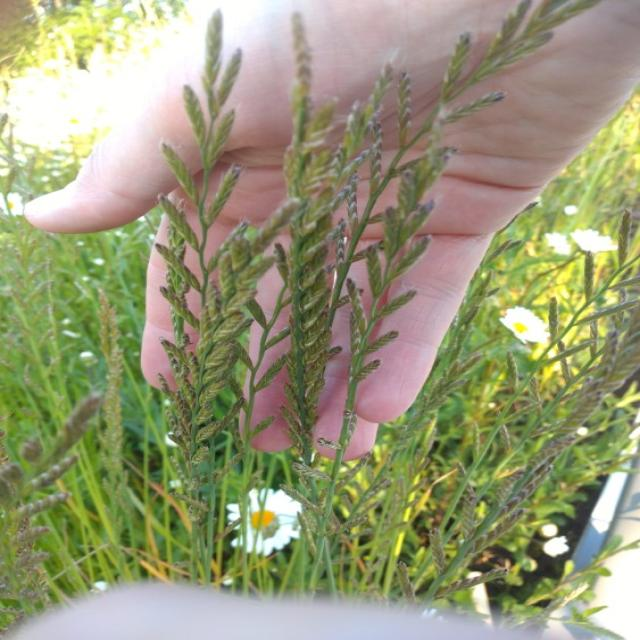Lolium: (6, 2, 634, 630), (318, 0, 608, 436), (273, 20, 347, 424), (157, 17, 235, 394), (199, 225, 271, 478)
